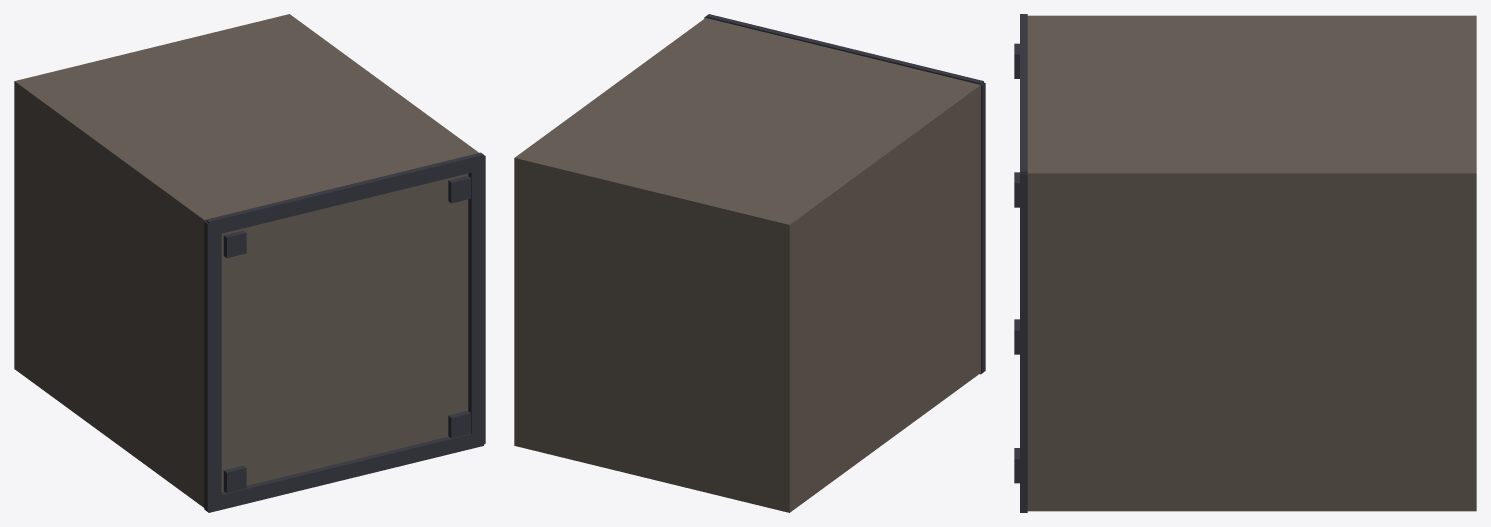
File: block-used.glb
3 views of the same model, side by side, from view 1: azimuth 30°, elevation 25°; view 2: azimuth 150°, elevation 25°; view 3: azimuth 270°, elevation 25° (orthographic). The views are drawn at different scales.
Parts seen in each view (by area): view 1: Model; view 2: Model; view 3: Model.
Boxes of the visible parts, x1=… form: Model: x1=14, y1=14, x2=485, y2=512; Model: x1=514, y1=14, x2=985, y2=512; Model: x1=1014, y1=14, x2=1476, y2=512.
Size of the model in its own units: 0.99 by 0.99 by 1.21.
Materials: 1 (1 with a texture image).
